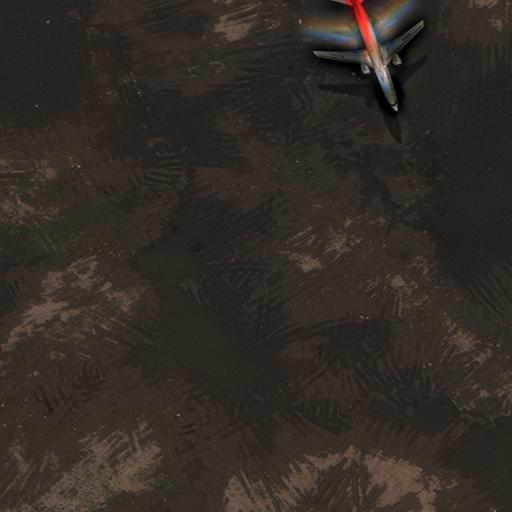Medium Civil Transport: (314, 0, 424, 112)
